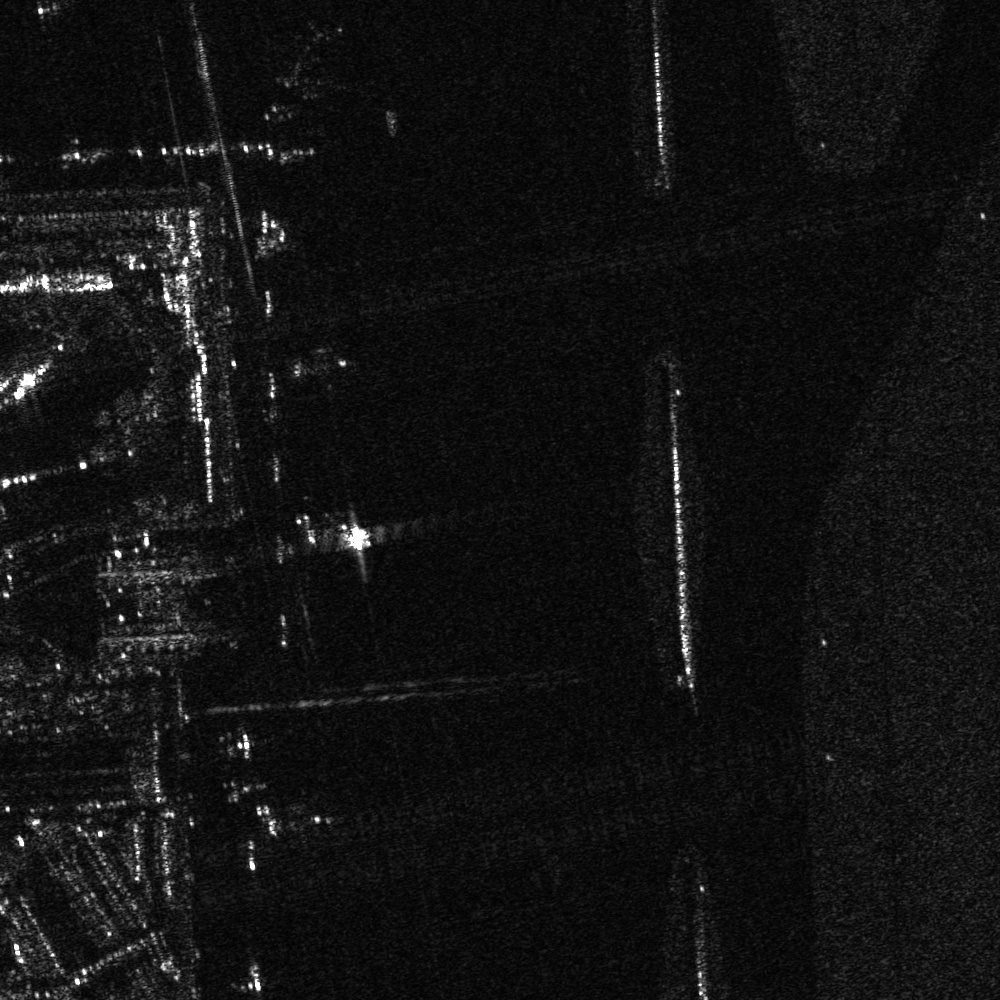A220: (279, 328, 357, 392), (211, 730, 271, 764), (235, 963, 280, 999), (245, 800, 282, 840)
other: (218, 778, 275, 804)
